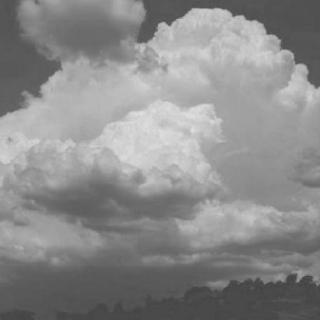Cumulonimbus: (0, 1, 320, 272)
